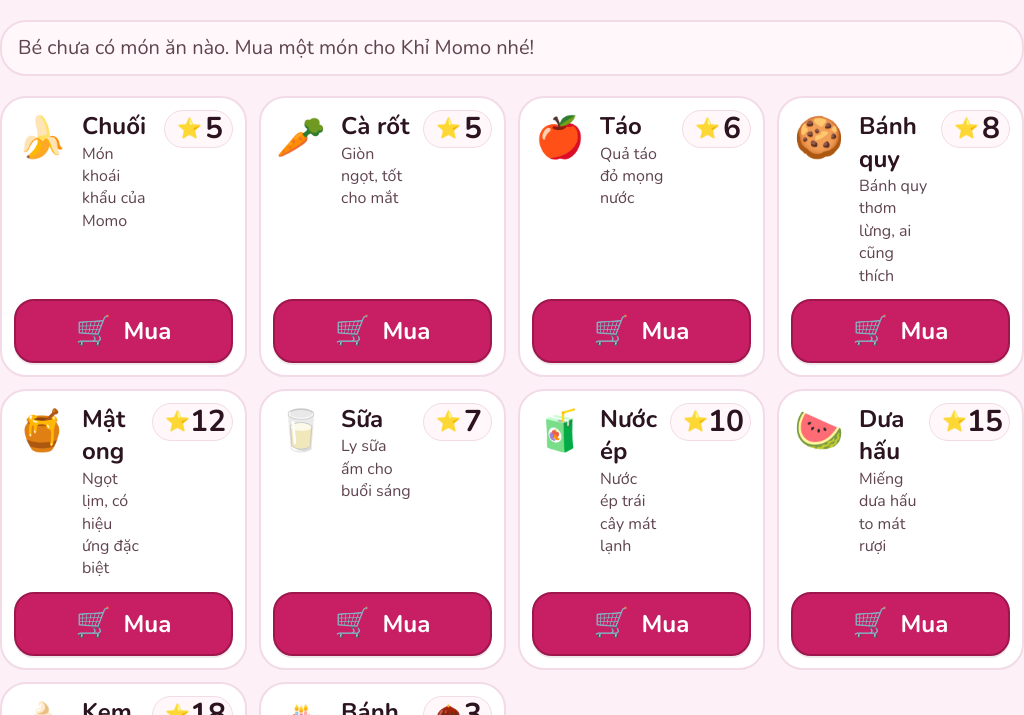
Test: PetHousePage — mua vật phẩm › bấm ✕ ⇒ thông báo biến mất
(page scrolled)
Step 1. Click the button with aria-label "Mua: Chuối" → (124, 331), box [14,299,233,363]
(page scrolled)
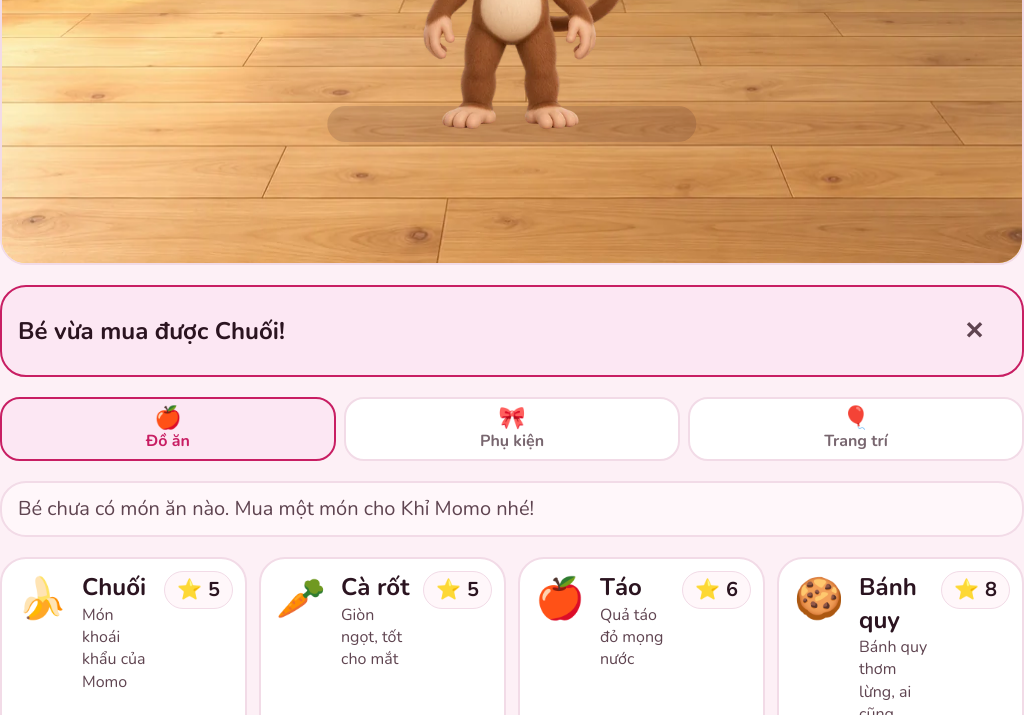
expect the text "Bé vừa mua được Chuối!" is shown: met, box [18,315,285,347]
Step 2. Click the button named "Đóng" → (974, 331), box [942,299,1006,363]
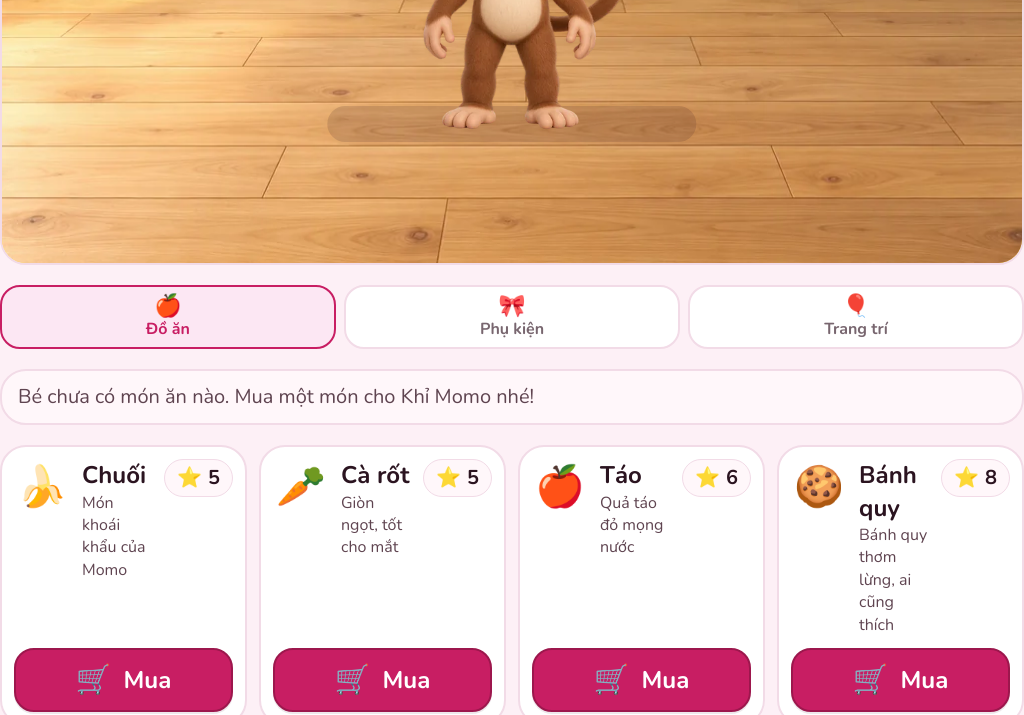
expect the text "Bé vừa mua được Chuối!" is gone: met
